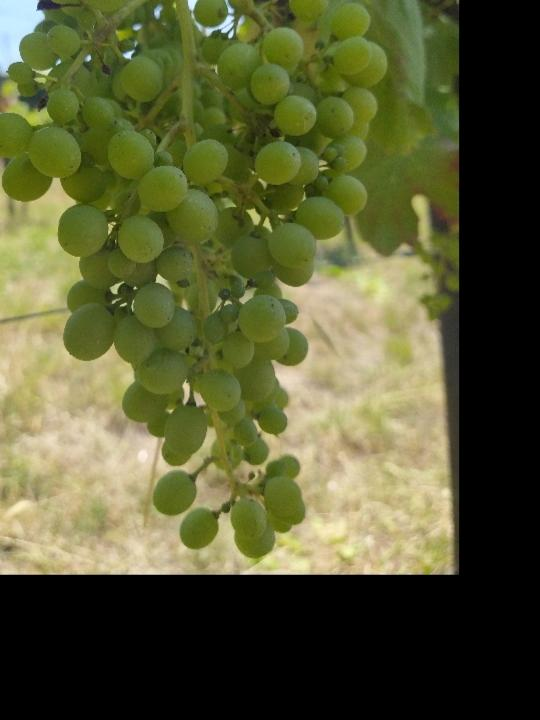grape: (0, 0, 388, 562)
